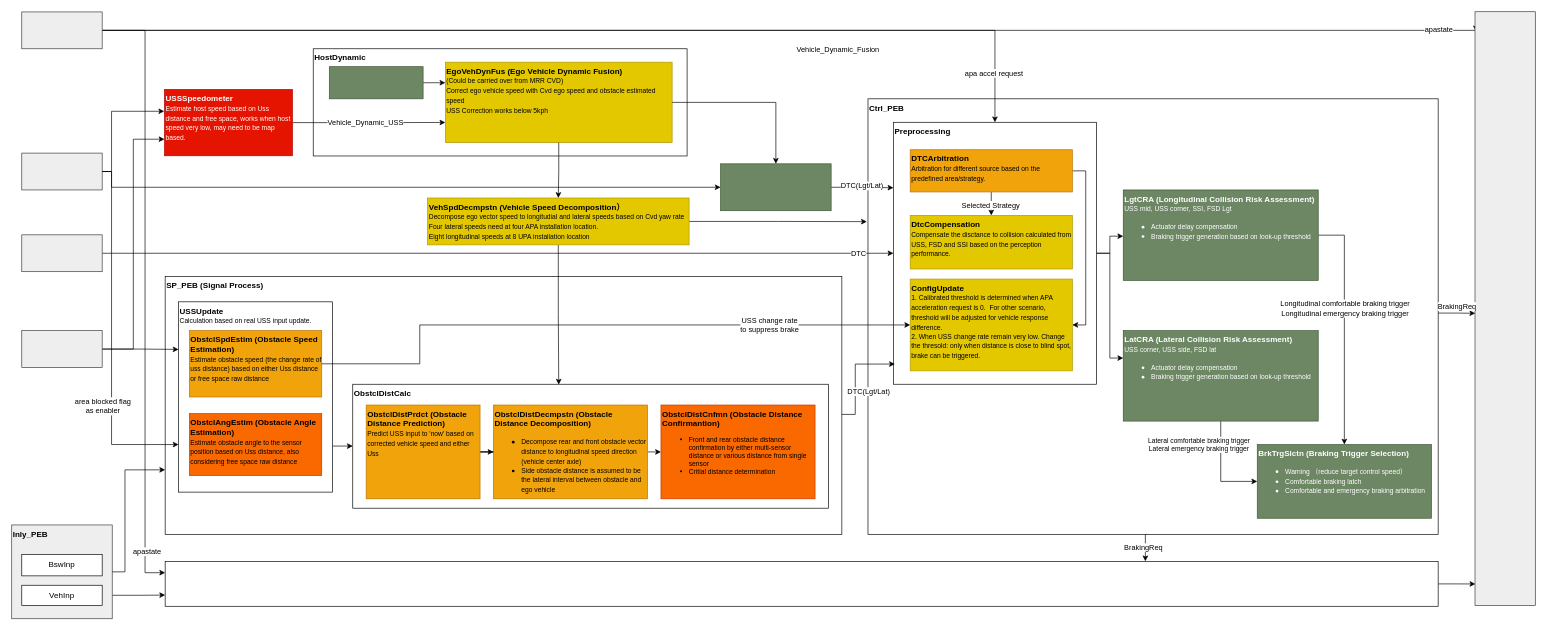
The diagram is 1547 pixels wide and 630 high, and some of its shapes have lost their labels. The centre of each missing label's shape, as x and y in pixels:
"ApaInp" belongs at pixel 61 30.
"ASM_PEB" belongs at pixel 801 583.
"CvdFromWhl (Current CVD)" belongs at pixel 376 82.
"FreeSpaceDistCal Calculate Distance To Collision based on FreeSpace input" belongs at pixel 775 187.
"FsppInp" belongs at pixel 61 171.
"Outly_PEB" belongs at pixel 1504 308.
"SsiInp" belongs at pixel 61 253.
"UssInp" belongs at pixel 61 348.
